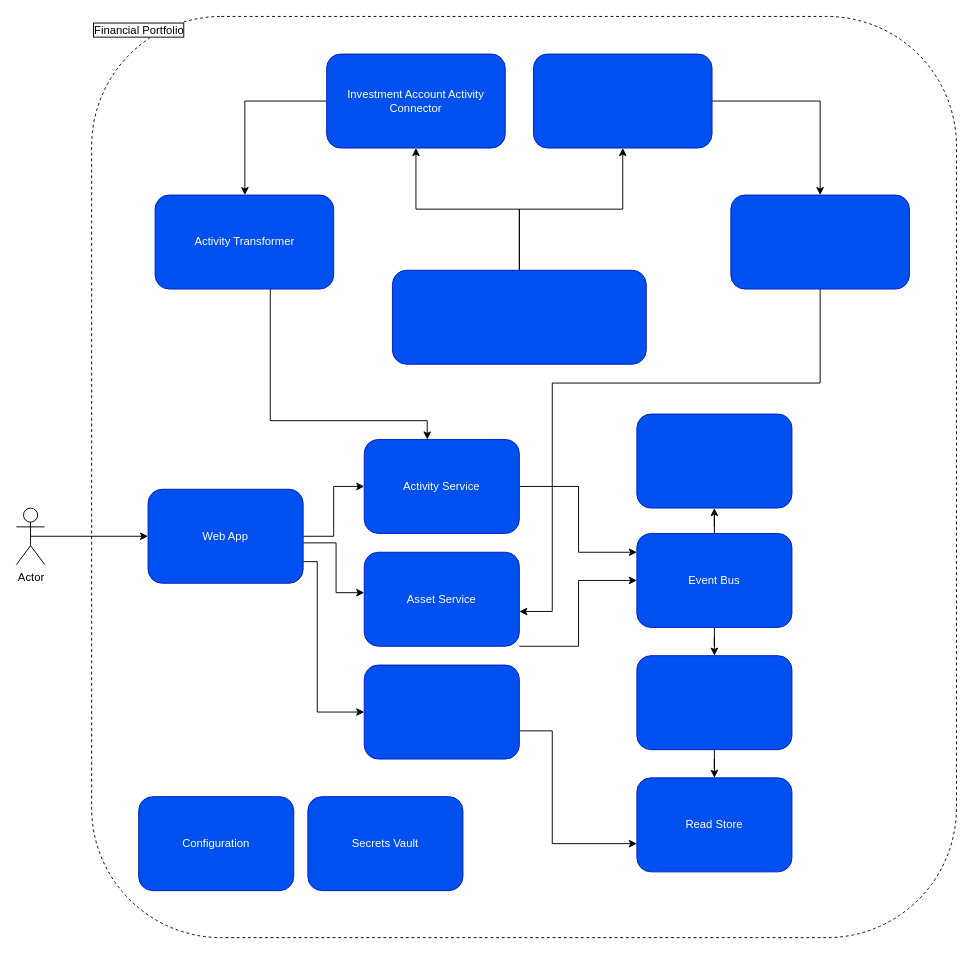
Image size: 973x954. Some labels were removed from this diagram. The centre of each missing label's shape, as x and y in pixels:
"Asset Value History Connector" belongs at point 622,100.
"Asset Value Transformer" belongs at point 819,241.
"Event Store" belongs at point 714,460.
"Portfolio Projector" belongs at point 714,702.
"Portfolio Read Service" belongs at point 441,711.
"Scheduler" belongs at point 519,316.
